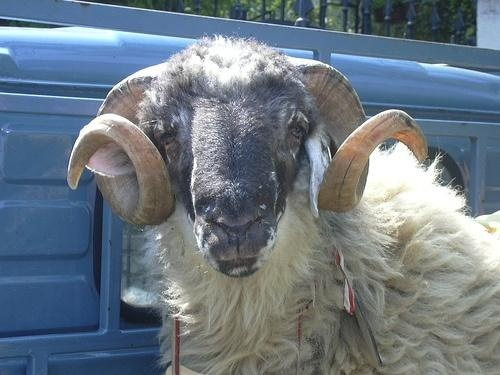sheep: (72, 36, 500, 375)
